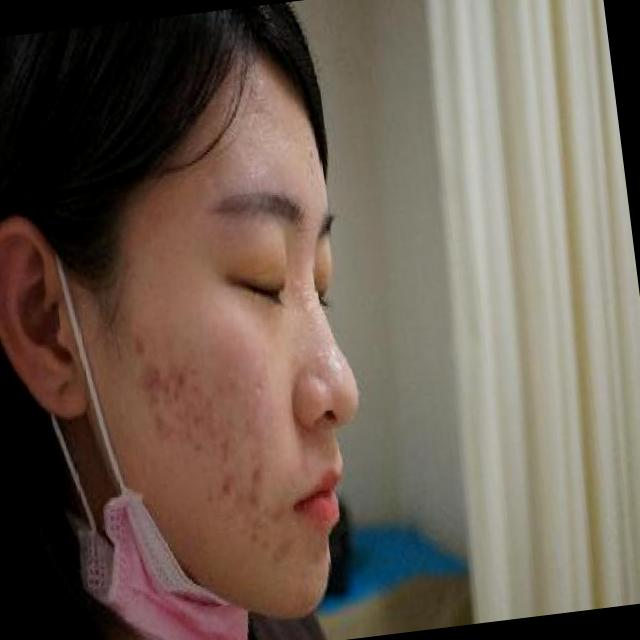darkspot: (131, 353, 174, 424), (190, 391, 222, 443), (177, 412, 206, 466), (213, 461, 244, 510), (243, 462, 272, 511), (128, 325, 156, 371), (213, 431, 241, 473)
